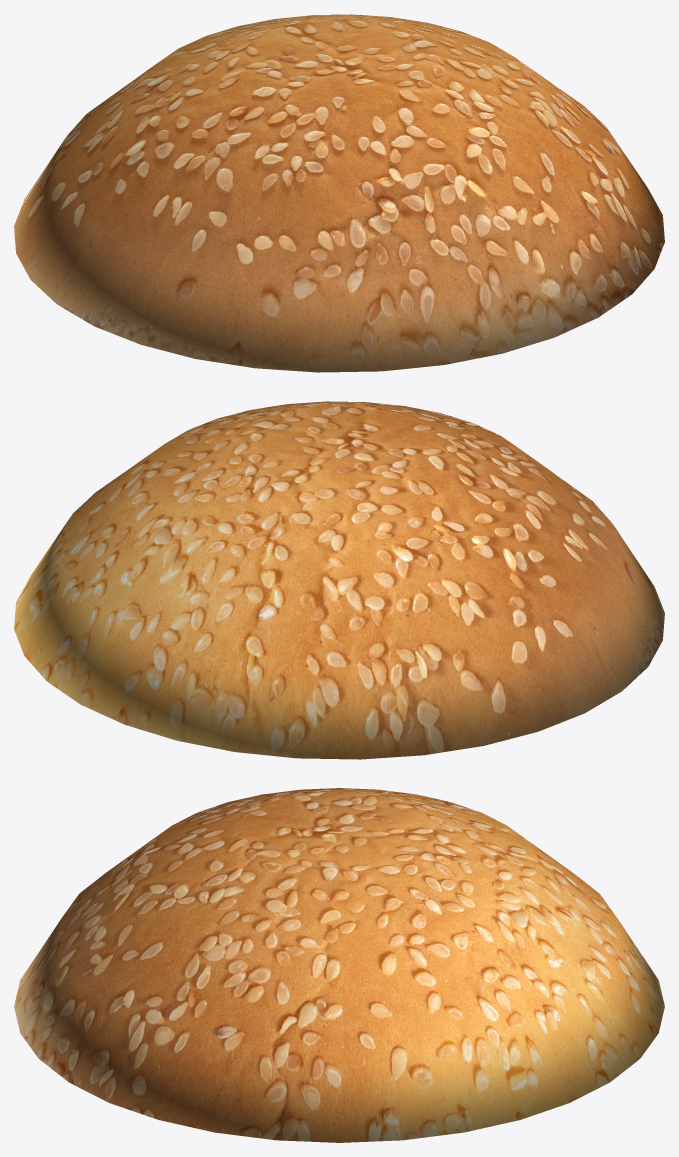
Rendered from top loaf.fbx.
3 renders of one model, top to bottom at view 1: azimuth 30°, elevation 25°; view 2: azimuth 150°, elevation 25°; view 3: azimuth 270°, elevation 25°, orthographic.
Visible parts, largest first — view 1: Circle.011; view 2: Circle.011; view 3: Circle.011.
Part boxes in pixels (box(x1,y1,x2,y2)): Circle.011: box(14, 14, 664, 372); Circle.011: box(14, 401, 664, 759); Circle.011: box(14, 788, 664, 1142).
Size of the model in its own units: 17.88 by 5.31 by 17.88.
2 materials, 2 textured.
